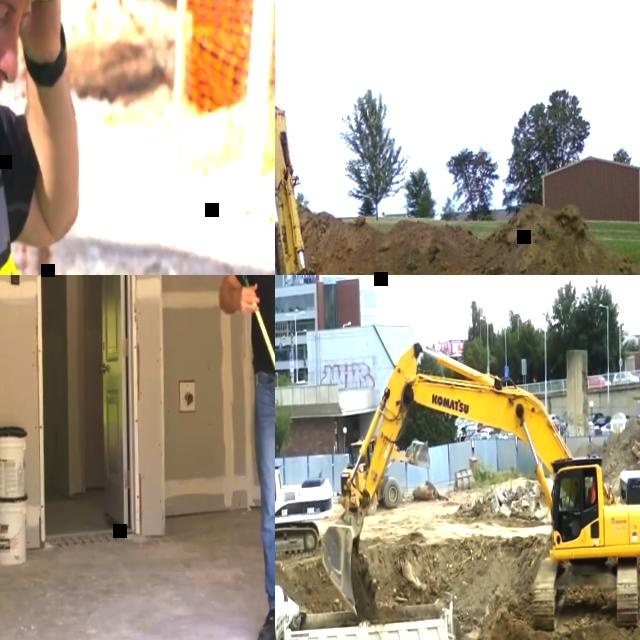NO-Mask: (574, 489, 577, 495)
NO-Safety Vest: (247, 275, 275, 382), (573, 495, 580, 510), (572, 483, 579, 490)
Person: (0, 0, 84, 275), (216, 275, 275, 640), (559, 483, 581, 540)
machinery: (317, 332, 640, 640), (275, 101, 356, 275), (275, 578, 464, 640), (275, 374, 335, 562), (339, 436, 430, 512)
vehicle: (613, 372, 639, 385), (455, 418, 474, 434), (587, 376, 610, 387), (594, 416, 611, 428), (464, 430, 480, 441), (480, 428, 496, 439), (470, 432, 487, 441), (588, 414, 603, 424), (548, 415, 560, 427), (600, 424, 610, 432), (487, 435, 501, 440)
